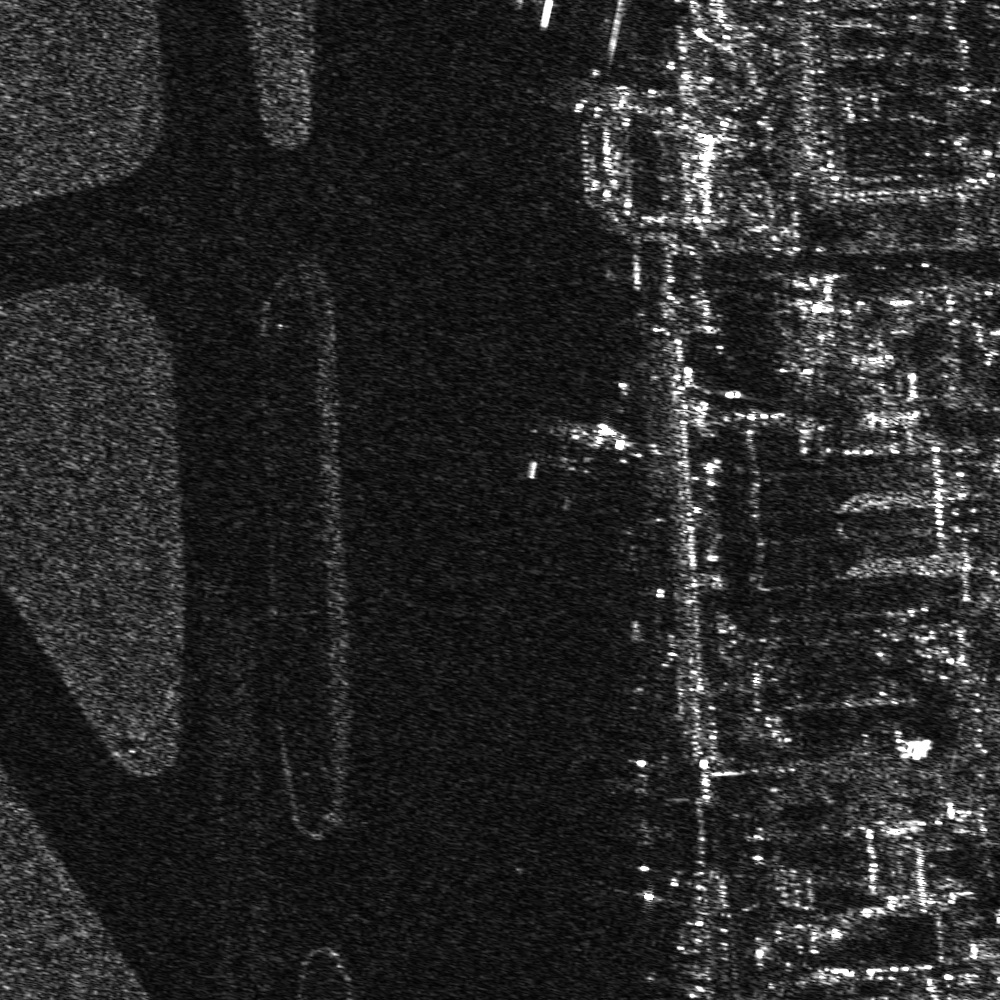A220: (517, 412, 656, 482)
